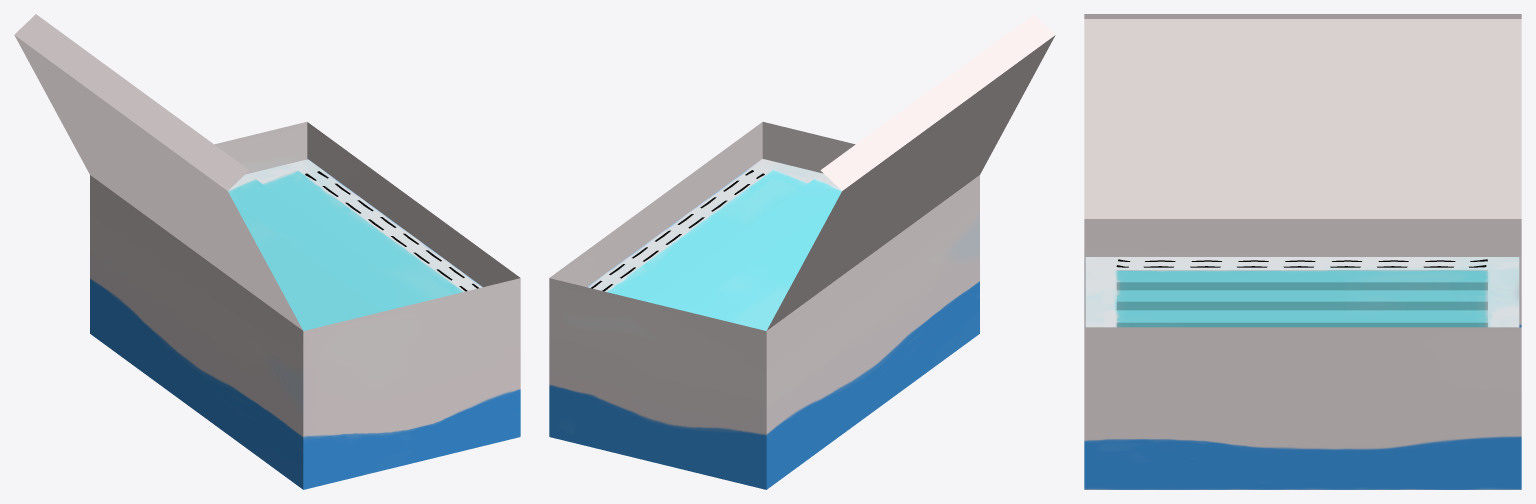
Rendered from Facemask.glb.
The picture shows the model from 3 angles, left to right: view 1: azimuth 30°, elevation 25°; view 2: azimuth 150°, elevation 25°; view 3: azimuth 270°, elevation 25°; orthographic projection. The views are drawn at different scales.
Visible parts, largest first — view 1: Cube; view 2: Cube; view 3: Cube.
Part boxes in pixels (x1,y1,x2,y2): Cube: (14, 14, 520, 489); Cube: (549, 14, 1055, 489); Cube: (1084, 14, 1521, 489).
Size of the model in its own units: 2.21 by 2.39 by 2.79.
1 material, 1 textured.
